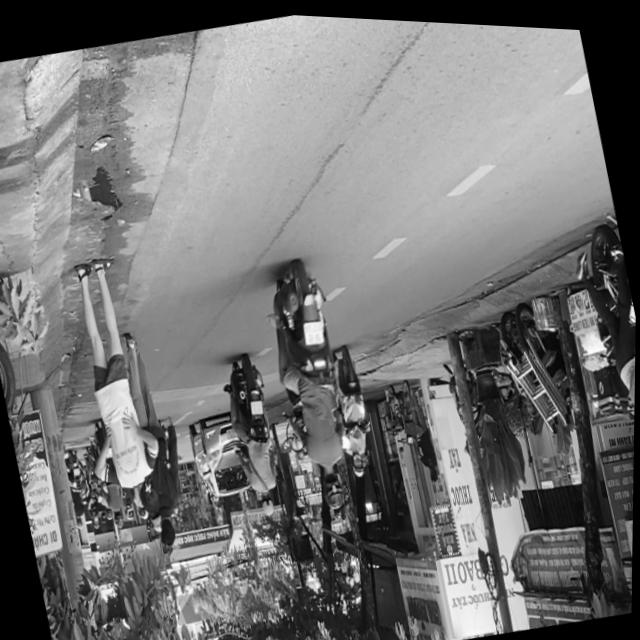helmet: (316, 457, 347, 506), (351, 449, 368, 475)
licenseplate: (253, 250, 371, 513), (564, 200, 638, 470), (324, 339, 385, 478)
nohelmet: (301, 315, 326, 344)
